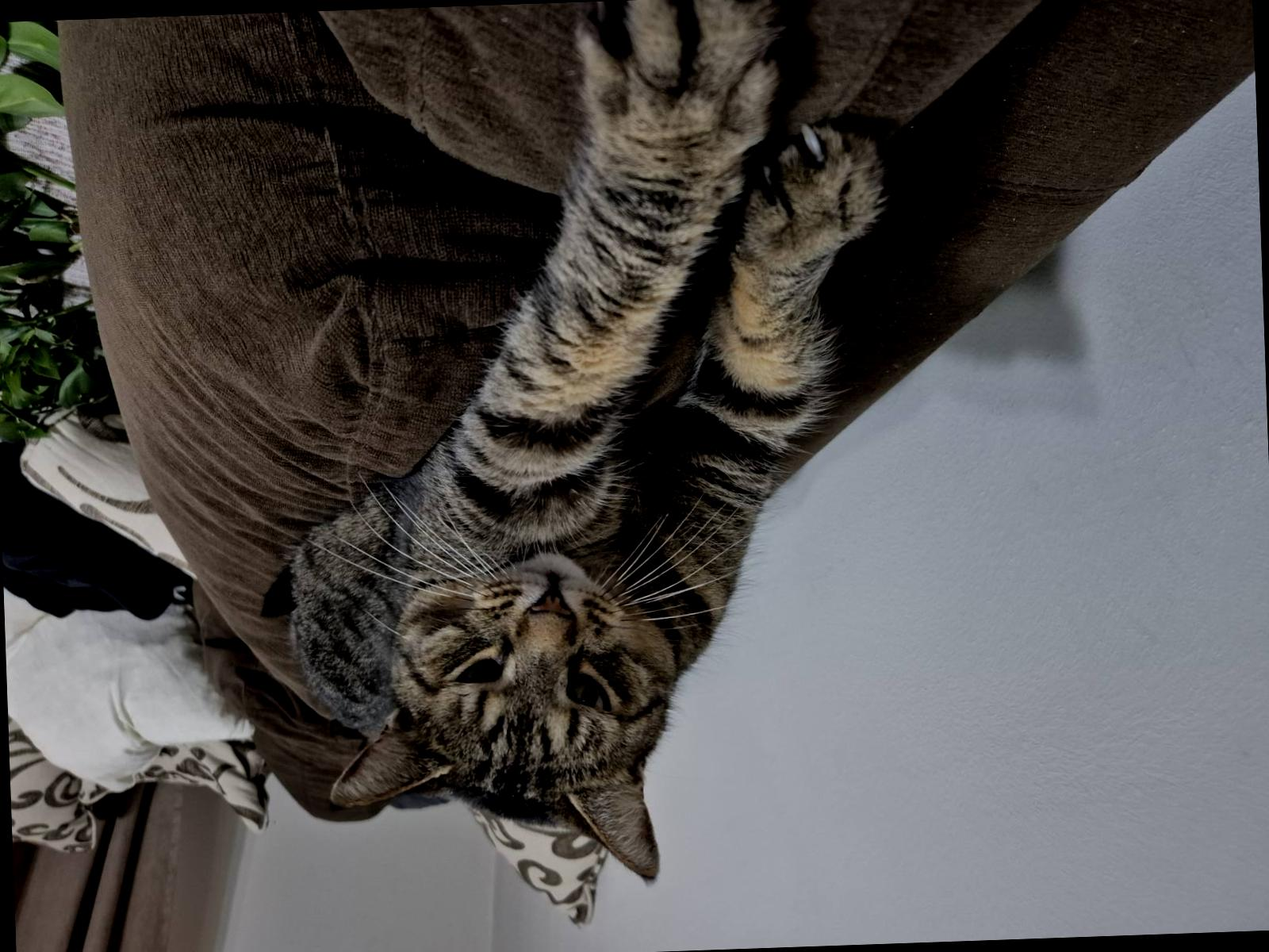macka: (266, 0, 914, 893)
